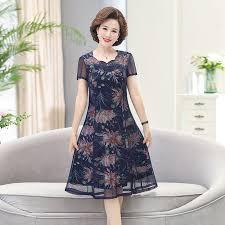dress: (68, 48, 158, 203)
